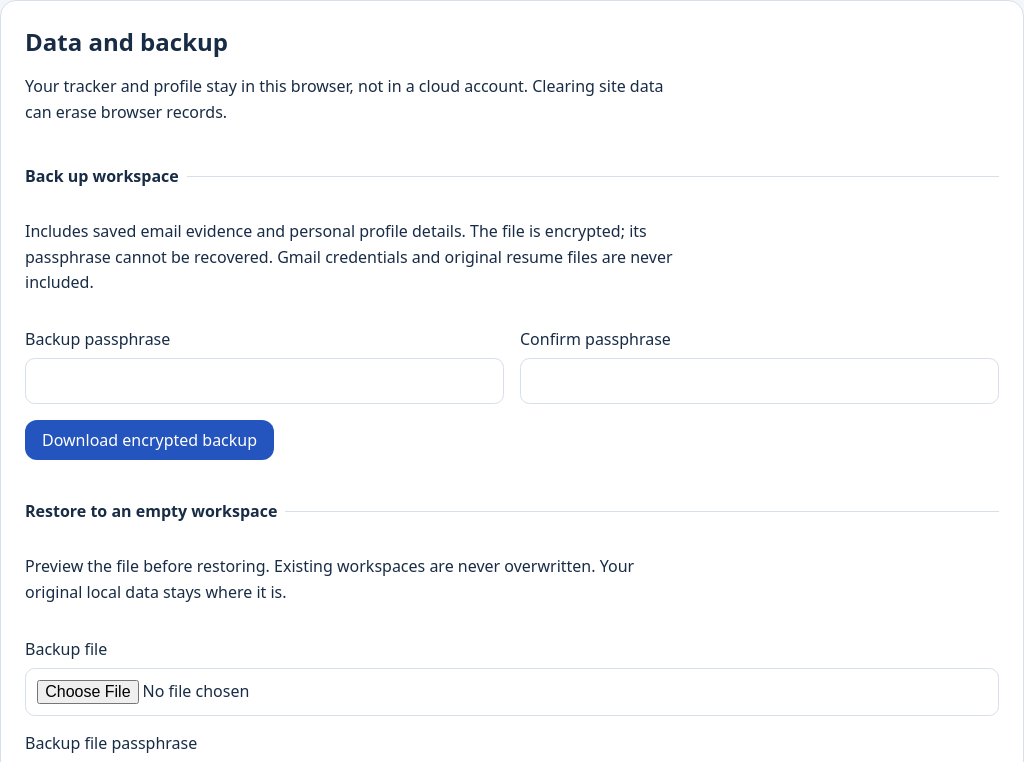
Test: does not silently omit a profile that cannot be read
This screenshot has width=1024, height=762.
In the password field labelled "Backup passphrase": {"x": 264, "y": 381} x1=25 y1=358 x2=504 y2=404, type "synthetic long password"
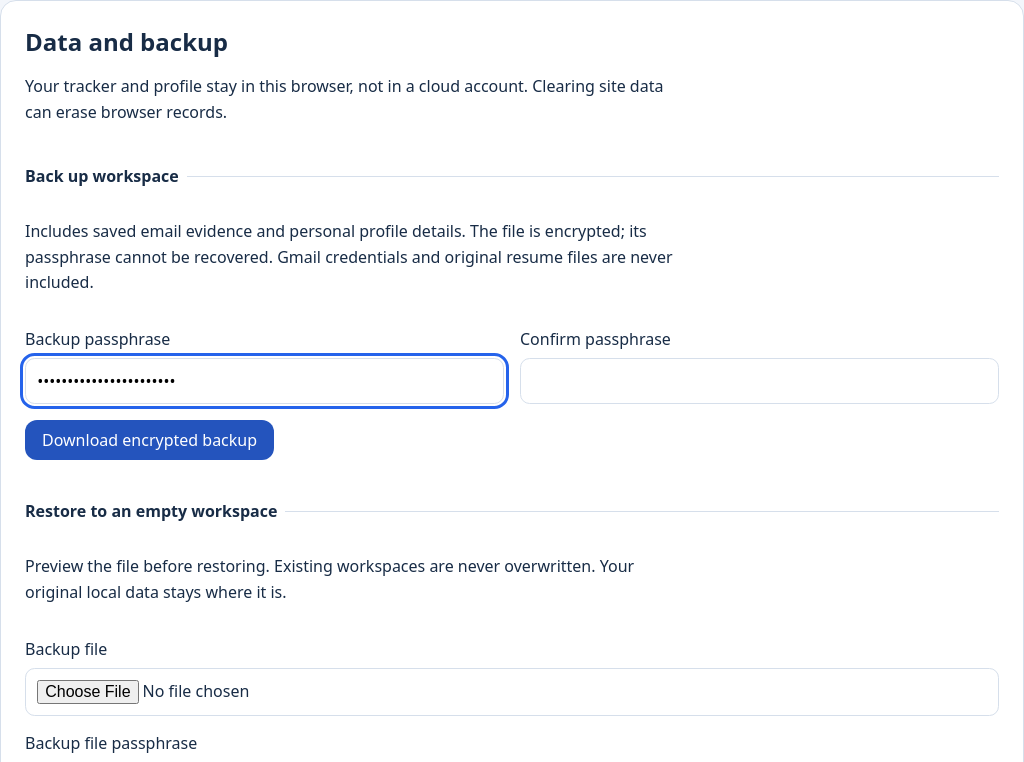
In the password field labelled "Confirm passphrase": {"x": 760, "y": 381} x1=520 y1=358 x2=999 y2=404, type "synthetic long password"
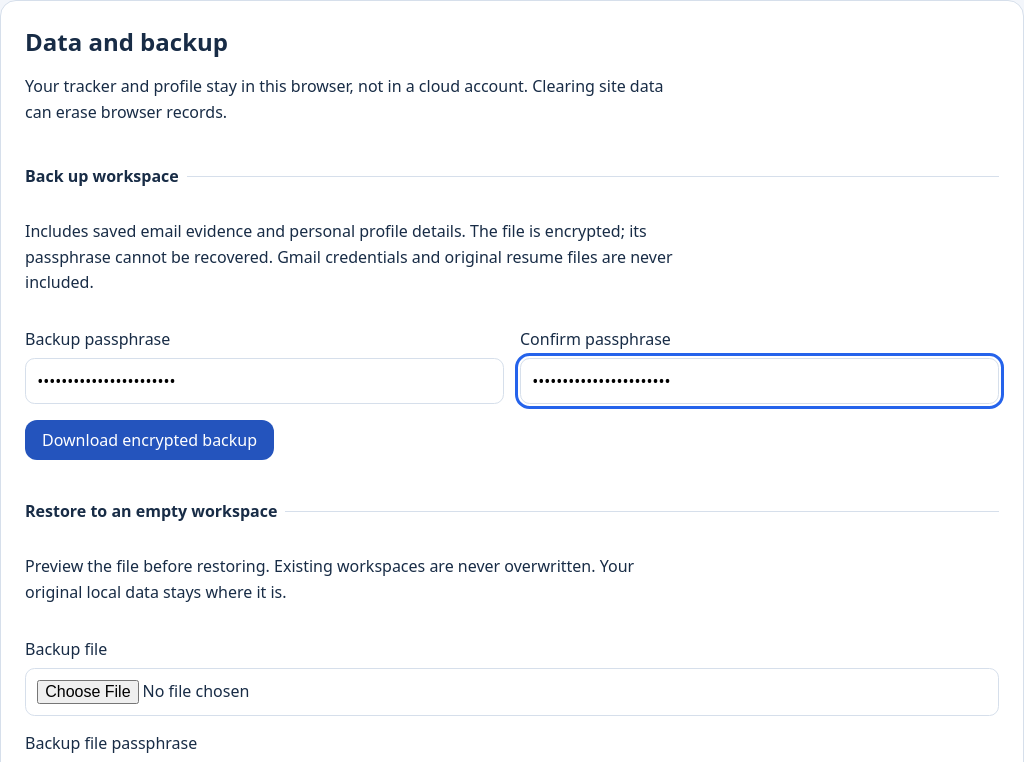
Click the button "Download encrypted backup": {"x": 150, "y": 440} x1=25 y1=420 x2=274 y2=460
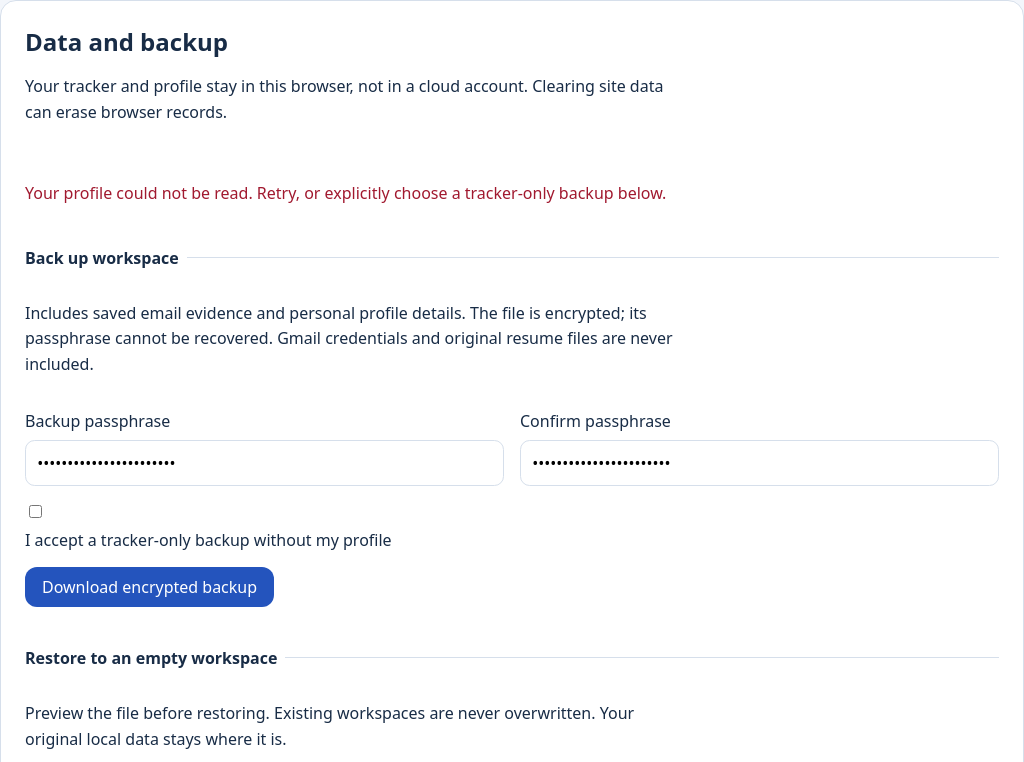
Expected: the checkbox labelled "I accept a tracker-only backup without my profile" is not checked, x1=29 y1=505 x2=42 y2=518
